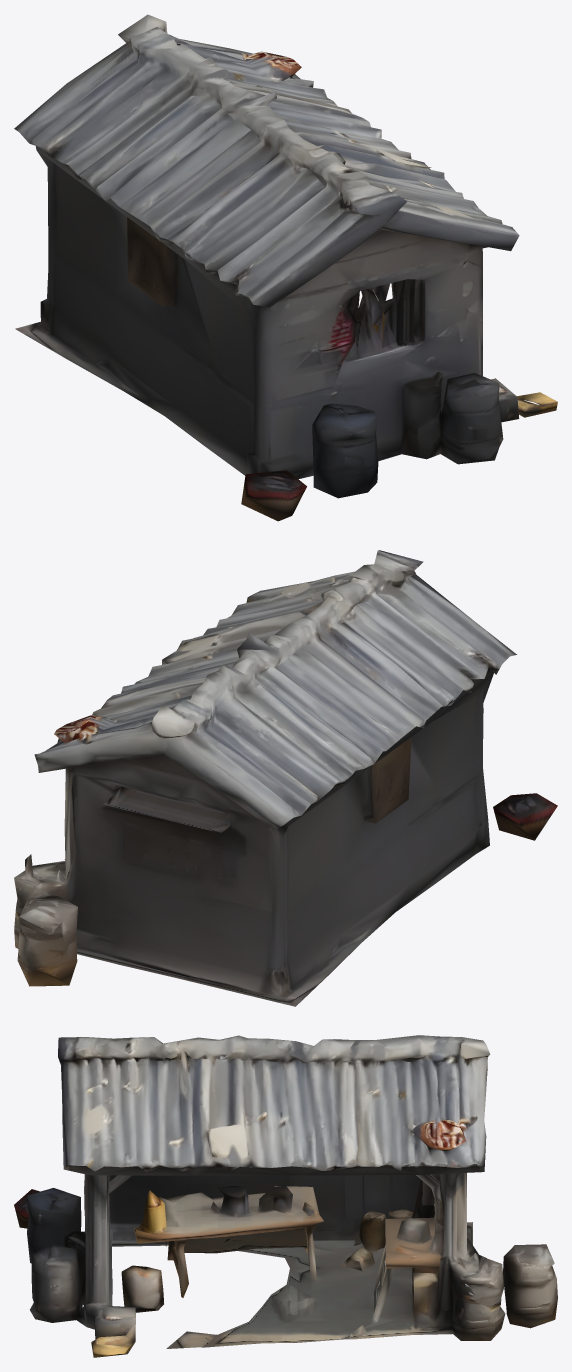
File: b_workshop.glb
3 renders of one model, top to bottom at view 1: azimuth 30°, elevation 25°; view 2: azimuth 150°, elevation 25°; view 3: azimuth 270°, elevation 25°, orthographic. The views are drawn at different scales.
Visible parts, largest first — view 1: tripo_node_d448c3ce-42c4-4167-ab86-093a6c00b55a; view 2: tripo_node_d448c3ce-42c4-4167-ab86-093a6c00b55a; view 3: tripo_node_d448c3ce-42c4-4167-ab86-093a6c00b55a.
Boxes of the visible parts, x1=… form: tripo_node_d448c3ce-42c4-4167-ab86-093a6c00b55a: x1=14, y1=14, x2=557, y2=521; tripo_node_d448c3ce-42c4-4167-ab86-093a6c00b55a: x1=14, y1=550, x2=557, y2=1006; tripo_node_d448c3ce-42c4-4167-ab86-093a6c00b55a: x1=14, y1=1035, x2=557, y2=1357.
Bounding box in the file's own units: 0.6298 × 0.4911 × 1.
1 material, 1 textured.
